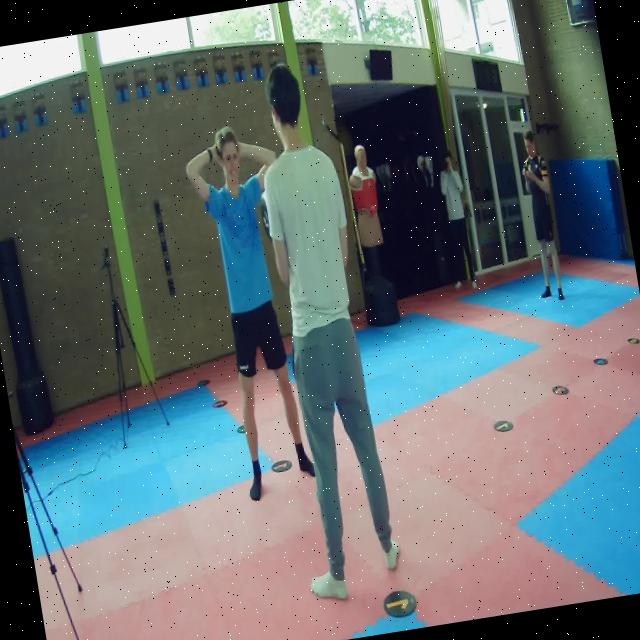paddle: (260, 192, 270, 238)
